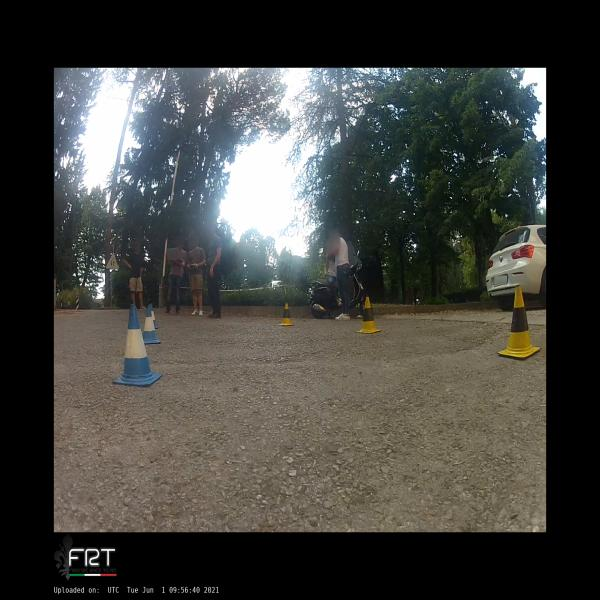blue_cone: (112, 304, 162, 386), (142, 305, 162, 344), (148, 302, 160, 329)
yellow_cone: (497, 285, 540, 358), (356, 296, 381, 334), (278, 302, 294, 326)
